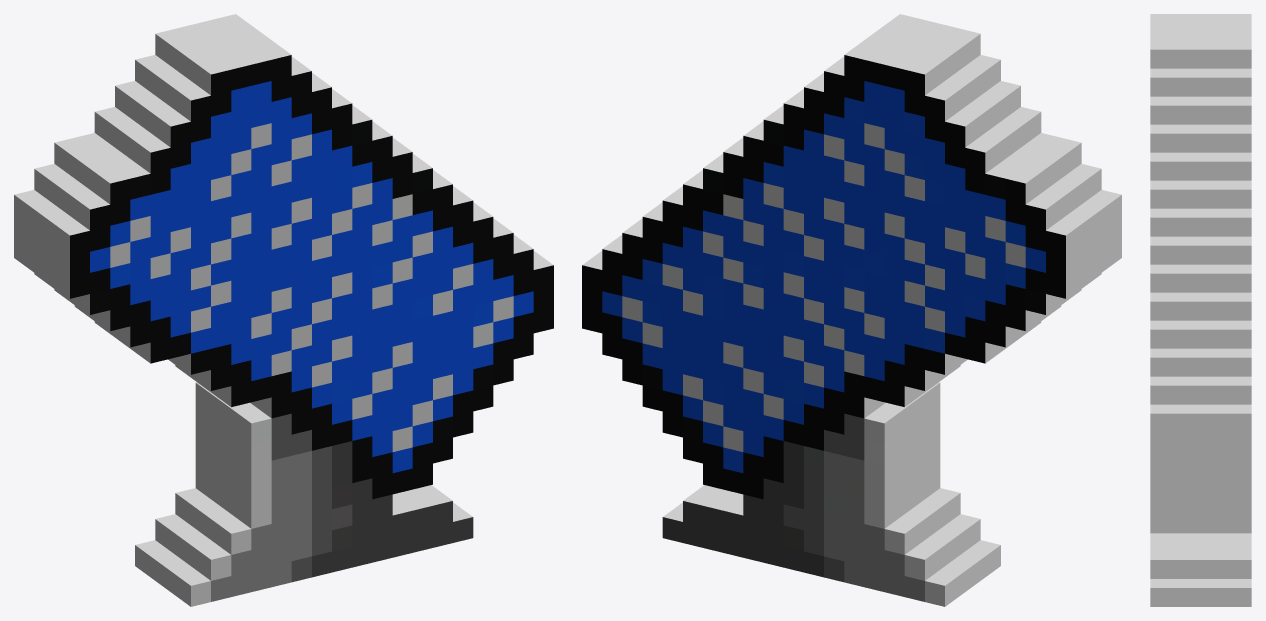
The model's file is SOLAR_3D.glb.
3 renders of one model, left to right at view 1: azimuth 30°, elevation 25°; view 2: azimuth 150°, elevation 25°; view 3: azimuth 270°, elevation 25°, orthographic. The views are drawn at different scales.
Visible parts, largest first — view 1: solar; view 2: solar; view 3: solar.
Boxes of the visible parts, x1=… form: solar: x1=14, y1=14, x2=553, y2=606; solar: x1=582, y1=14, x2=1121, y2=606; solar: x1=1150, y1=14, x2=1251, y2=606.
Size of the model in its own units: 0.75 by 0.7812 by 0.15.
2 materials, 1 textured.
